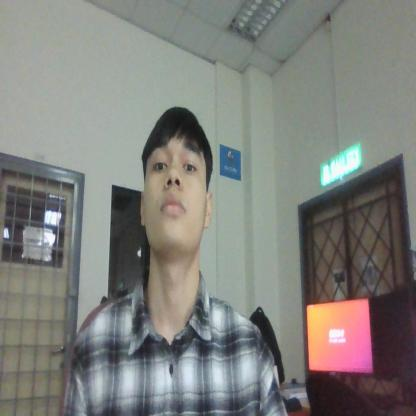Open-Eyes: (145, 142, 202, 180)
